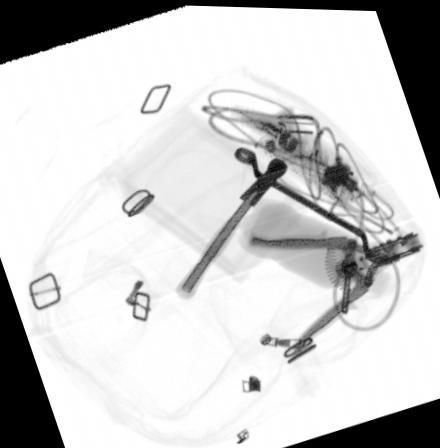Hammer: (173, 156, 287, 299)
Pliers: (243, 226, 424, 354)
Wrench: (231, 142, 386, 263)
